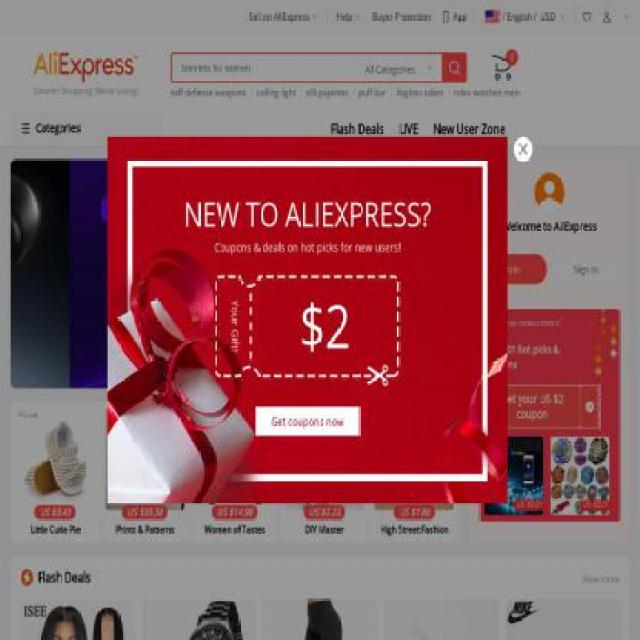button: (279, 402, 370, 543), (11, 402, 100, 543), (100, 402, 189, 543), (190, 402, 279, 543), (369, 402, 458, 543), (10, 50, 161, 113), (152, 437, 217, 515), (219, 437, 284, 515), (285, 437, 350, 515), (550, 437, 615, 515), (352, 437, 416, 515), (418, 437, 482, 515), (484, 437, 548, 515), (19, 599, 135, 639), (262, 599, 378, 639), (506, 599, 622, 639), (141, 599, 256, 639), (385, 599, 500, 639), (36, 112, 161, 146), (255, 407, 360, 436), (433, 112, 505, 146), (479, 253, 547, 284), (552, 253, 619, 284), (617, 436, 640, 516), (330, 112, 384, 146), (484, 316, 614, 329), (534, 172, 564, 212), (171, 86, 251, 99), (449, 86, 525, 99), (391, 86, 449, 99), (300, 86, 354, 99), (398, 112, 418, 146), (252, 86, 300, 99), (353, 86, 392, 99), (514, 137, 532, 161), (512, 9, 538, 25), (492, 57, 512, 74), (602, 9, 622, 23), (582, 9, 592, 23)
field: (182, 54, 356, 81), (442, 52, 467, 83)
